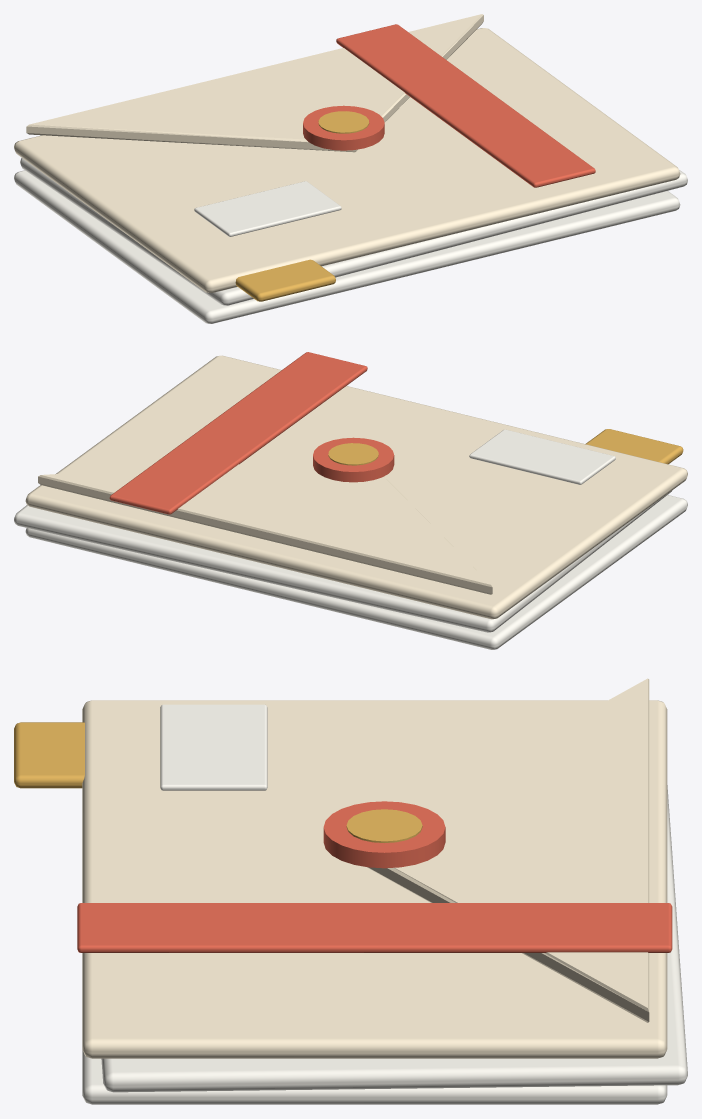
Rendered from submission-folio.glb.
3 renders of one model, top to bottom at view 1: azimuth 30°, elevation 25°; view 2: azimuth 150°, elevation 25°; view 3: azimuth 270°, elevation 25°, orthographic. The views are drawn at different scales.
Parts seen in each view (by area): view 1: folio-sheet-2, envelope-flap, folio-sheet-0, seal-ribbon, folio-sheet-1, address-window, dispatch-tab, wax-seal, wax-seal-inset; view 2: folio-sheet-2, envelope-flap, seal-ribbon, folio-sheet-0, folio-sheet-1, address-window, wax-seal, dispatch-tab, wax-seal-inset; view 3: folio-sheet-2, envelope-flap, seal-ribbon, folio-sheet-1, folio-sheet-0, address-window, wax-seal, dispatch-tab, wax-seal-inset.
Boxes of the visible parts, x1,y1,x2,y2 form: folio-sheet-2: (14,28,680,292); envelope-flap: (26,14,483,152); folio-sheet-0: (14,170,680,323); seal-ribbon: (336,24,595,187); folio-sheet-1: (20,158,687,305); address-window: (194,181,341,236); dispatch-tab: (235,259,335,301); wax-seal: (303,105,384,150); wax-seal-inset: (318,111,369,133); folio-sheet-2: (25,355,687,619); envelope-flap: (38,460,492,594); seal-ribbon: (109,352,367,514); folio-sheet-0: (25,495,687,649); folio-sheet-1: (14,491,671,632); address-window: (469,429,615,484); wax-seal: (313,437,394,482); dispatch-tab: (585,429,683,464); wax-seal-inset: (328,443,378,465); folio-sheet-2: (82,700,667,1058); envelope-flap: (367,678,649,1022); seal-ribbon: (77,903,672,952); folio-sheet-1: (101,785,687,1092); folio-sheet-0: (82,1050,667,1104); address-window: (160,704,267,790); wax-seal: (323,801,445,868); dispatch-tab: (14,722,84,788); wax-seal-inset: (346,809,422,842).
Bounding box in the file's own units: 1.73 × 0.249 × 1.38.
